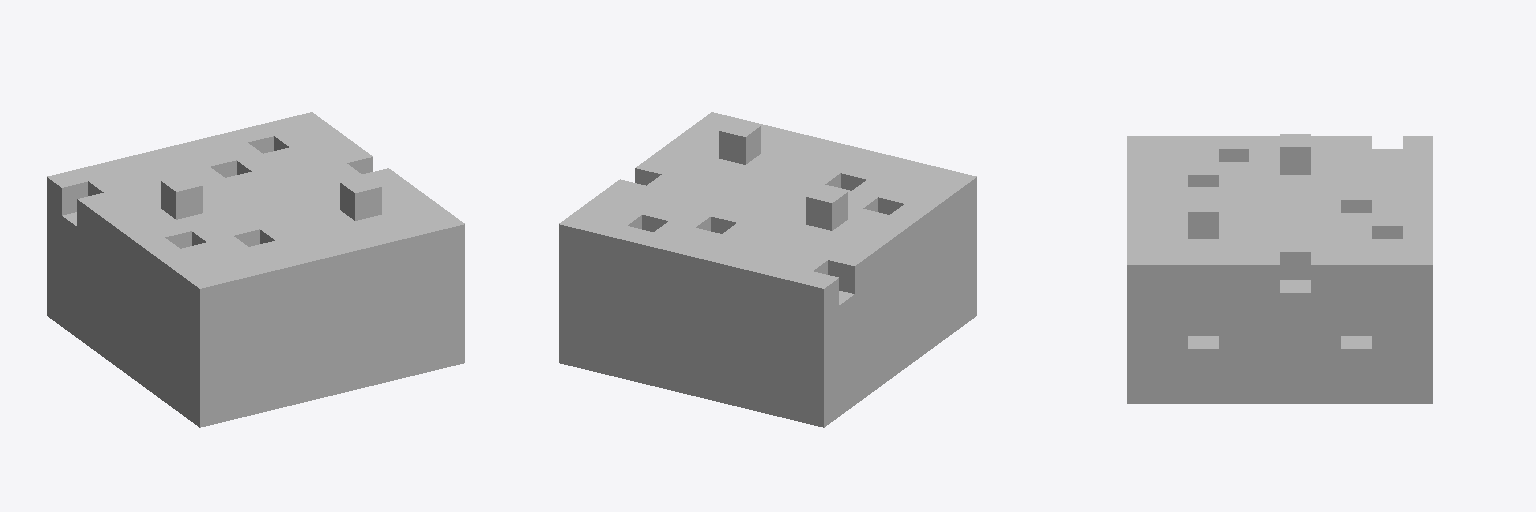
Rendered from dirt.obj.
The picture shows the model from 3 angles: view 1: azimuth 30°, elevation 25°; view 2: azimuth 150°, elevation 25°; view 3: azimuth 270°, elevation 25°; orthographic projection.
Visible parts, largest first — view 1: object 1; view 2: object 1; view 3: object 1.
Part boxes in pixels (x1,y1,x2,y2): object 1: (47, 112, 464, 427); object 1: (559, 112, 976, 427); object 1: (1127, 134, 1432, 403).
Bounding box in the file's own units: 1 × 0.6 × 1.